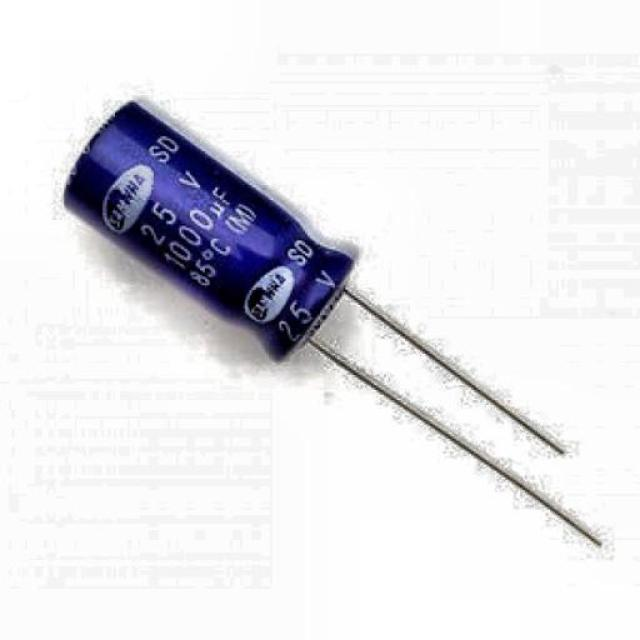Capacitor: (10, 44, 617, 563)
